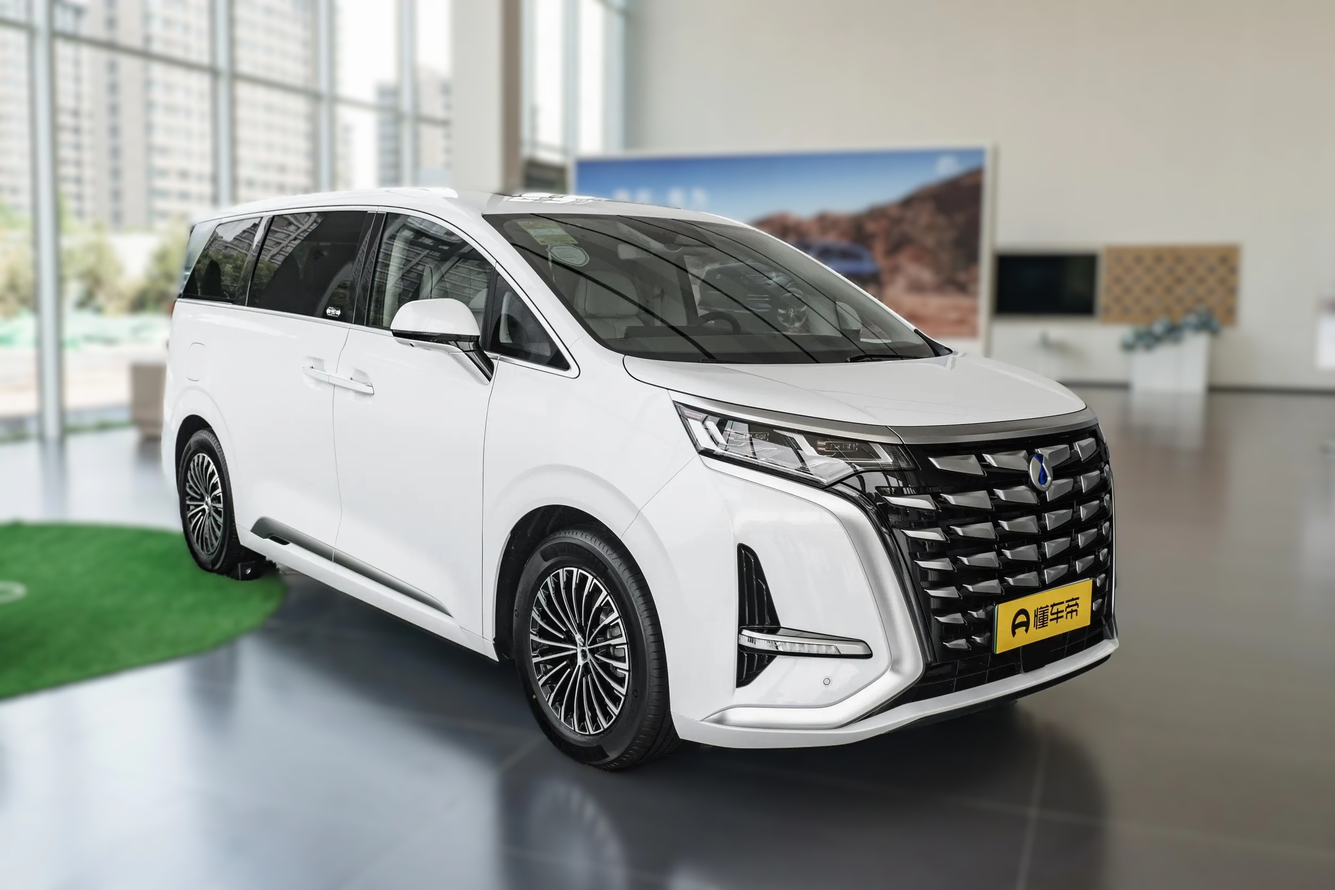DENZA: (1030, 454, 1053, 490)
